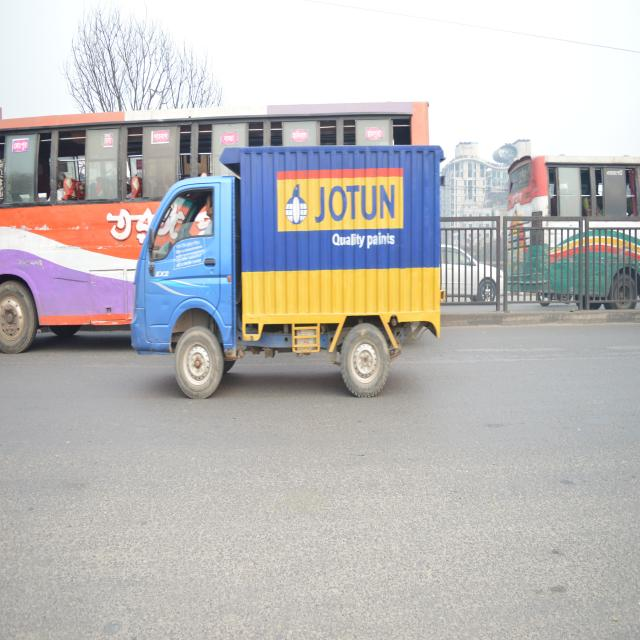bus: (0, 101, 194, 347), (505, 143, 640, 307)
car: (440, 235, 505, 322)
pickup-van: (135, 145, 444, 410)
